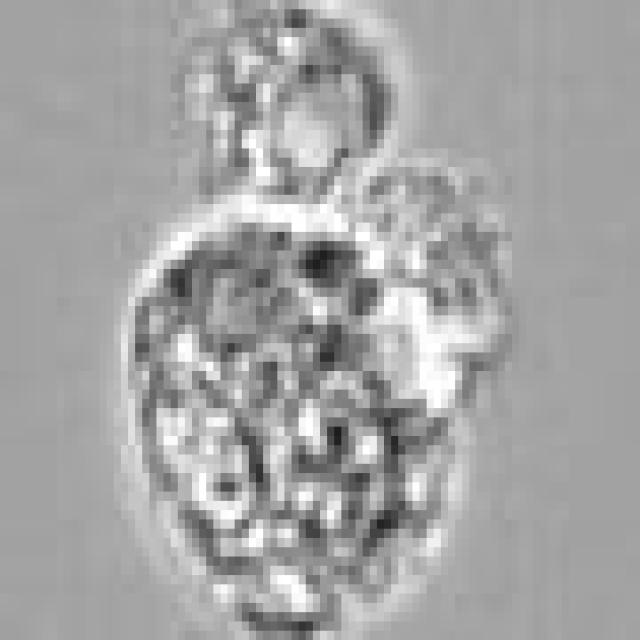Cancer Cell: (114, 204, 476, 640)
WBC: (185, 9, 405, 204), (334, 158, 512, 371)
